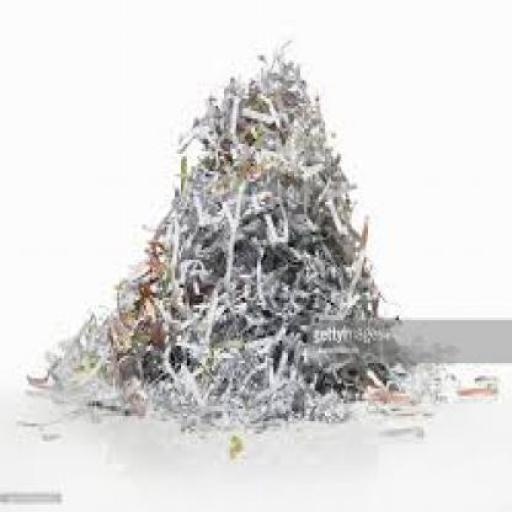paper: (25, 40, 496, 452)
